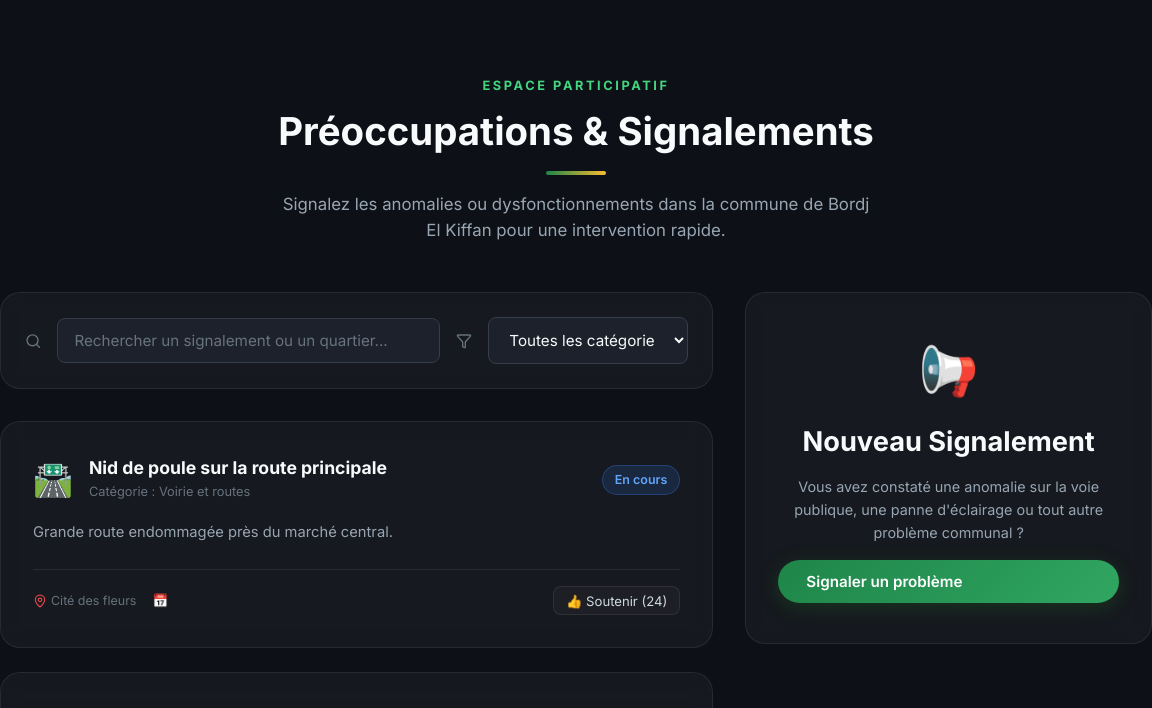
Signalements › filters signalements by search query
In the field with placeholder "Rechercher un signalement ou un quartier...": (249, 341) [58,318,440,363], type "éclairage"
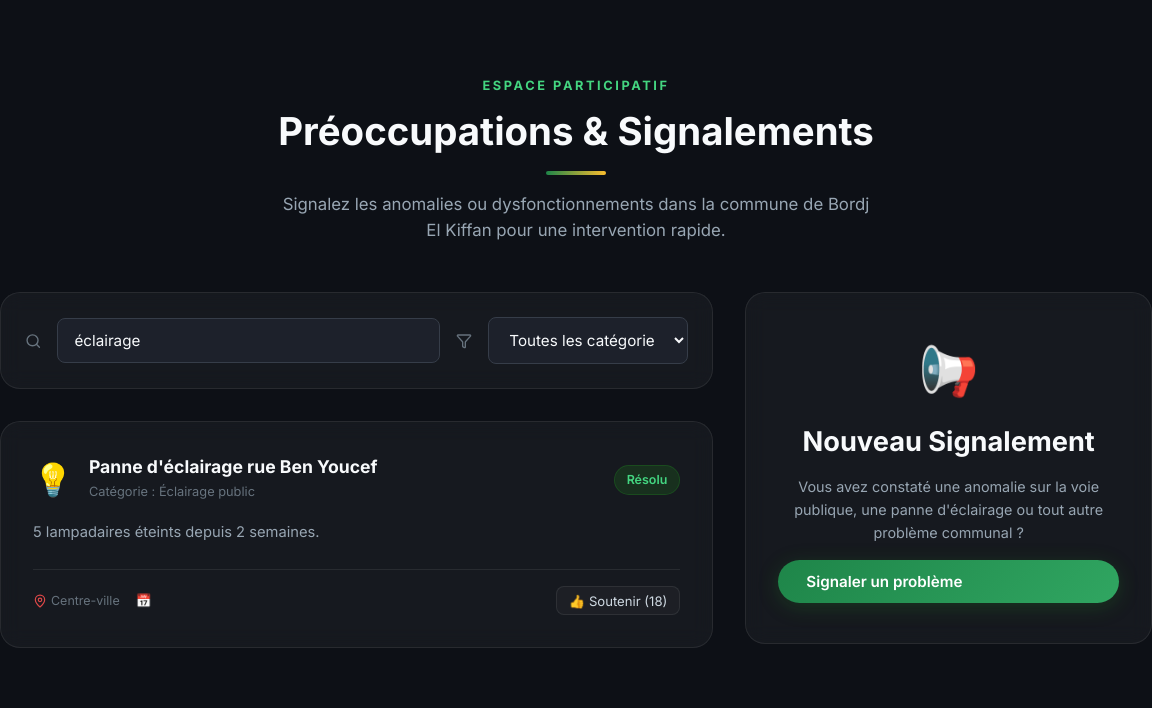
Expected: the heading "Panne d'éclairage rue Ben Youcef" is shown, [89,456,378,478]
Now the heading "Nid de poule sur la route principale" is gone
